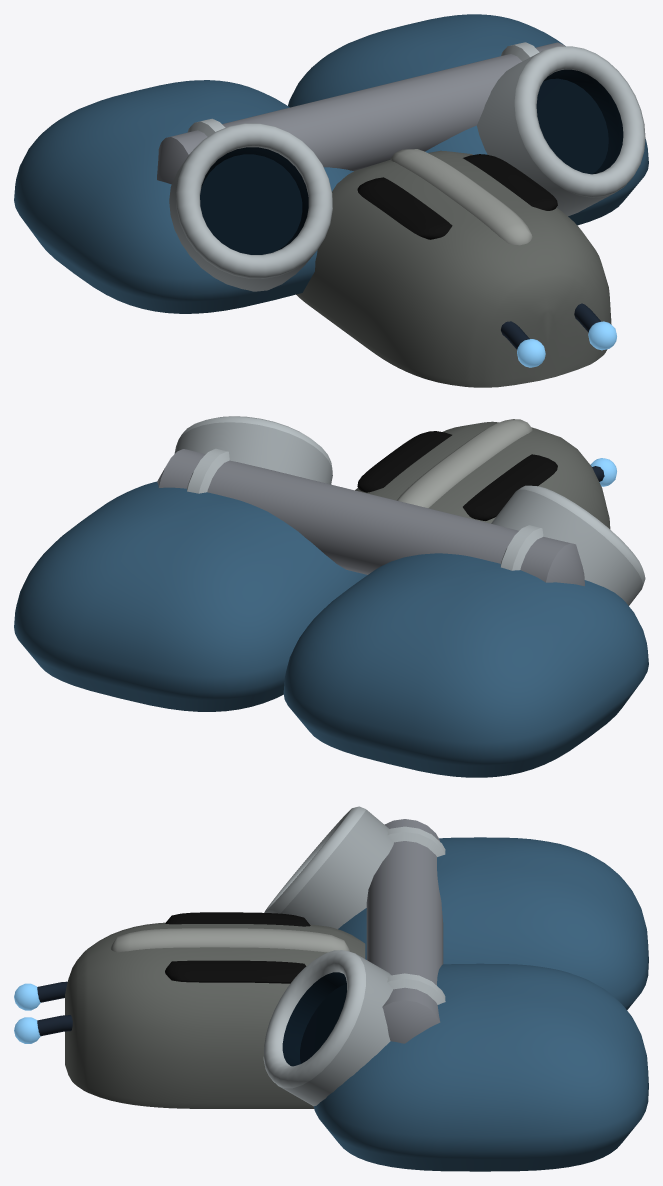
File: pod_dome.glb
3 views of the same model, one above another, from view 1: azimuth 30°, elevation 25°; view 2: azimuth 150°, elevation 25°; view 3: azimuth 270°, elevation 25° (orthographic). The views are drawn at different scales.
Parts seen in each view (by area): view 1: cowl, shell, cup, cup_r, bar, shell_r, rib, slot1, slot-1, prong_tip1, prong_tip0; view 2: shell, shell_r, bar, cowl, cup, cup_r, rib, slot1, slot-1, bar_collar-1, bar_collar1; view 3: shell_r, cowl, shell, cup_r, bar, cup, rib, slot-1, slot1, bar_collar1, bar_collar-1, prong1 (+2 smaller).
Part boxes in pixels (left/top/right/bottom): cowl: left=296, top=150, right=611, bottom=387; shell: left=14, top=80, right=353, bottom=313; cup: left=169, top=123, right=332, bottom=291; cup_r: left=477, top=46, right=645, bottom=216; bar: left=157, top=42, right=564, bottom=184; shell_r: left=288, top=14, right=648, bottom=225; rib: left=390, top=149, right=532, bottom=245; slot1: left=357, top=177, right=452, bottom=239; slot-1: left=463, top=154, right=557, bottom=210; prong_tip1: left=588, top=321, right=616, bottom=350; prong_tip0: left=517, top=339, right=545, bottom=367; shell: left=283, top=553, right=648, bottom=777; shell_r: left=14, top=481, right=367, bottom=711; bar: left=157, top=449, right=584, bottom=586; cowl: left=355, top=421, right=610, bottom=529; cup: left=491, top=485, right=645, bottom=605; cup_r: left=174, top=416, right=332, bottom=484; rib: left=397, top=419, right=532, bottom=507; slot1: left=463, top=454, right=557, bottom=520; slot-1: left=357, top=431, right=451, bottom=492; bar_collar-1: left=500, top=525, right=543, bottom=570; bar_collar1: left=187, top=448, right=229, bottom=493; shell_r: left=313, top=963, right=648, bottom=1171; cowl: left=65, top=922, right=365, bottom=1108; shell: left=338, top=837, right=648, bottom=1009; cup_r: left=263, top=950, right=392, bottom=1106; bar: left=366, top=819, right=443, bottom=1043; cup: left=264, top=806, right=393, bottom=929; rib: left=110, top=928, right=350, bottom=952; slot-1: left=165, top=960, right=306, bottom=983; slot1: left=165, top=912, right=310, bottom=926; bar_collar1: left=387, top=973, right=445, bottom=1004; bar_collar-1: left=387, top=826, right=445, bottom=856; prong1: left=37, top=1015, right=72, bottom=1036.
Size of the model in its own units: 23.8 by 7.6 by 24.85.
